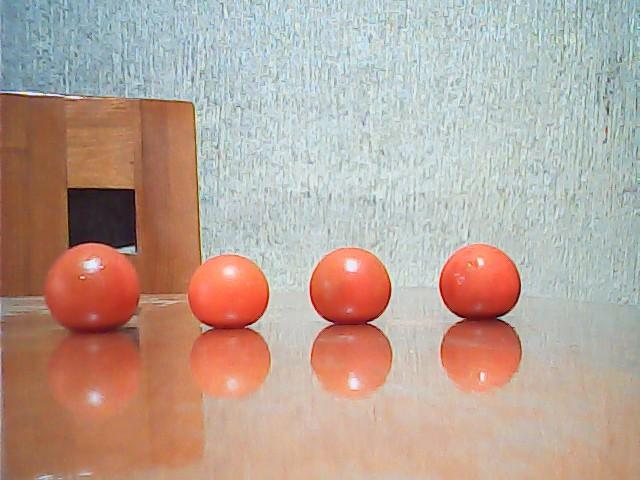maduro: (43, 244, 142, 333), (440, 244, 521, 319), (311, 248, 392, 322), (188, 254, 270, 327)
